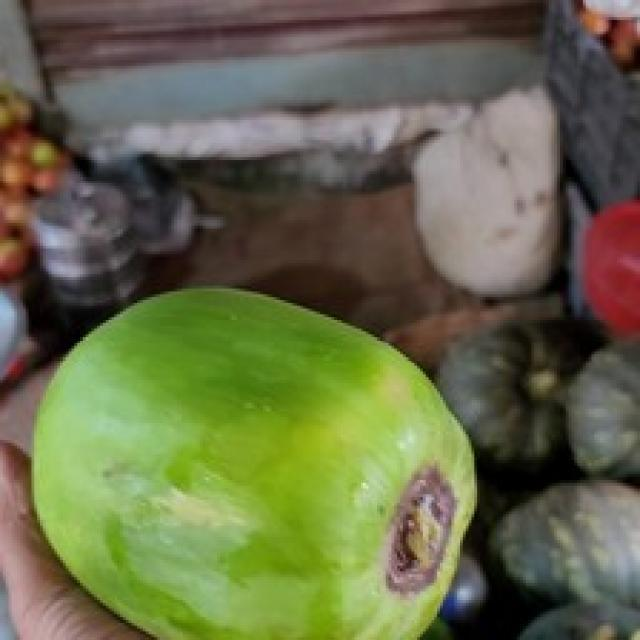Pepaya unrippen: (47, 264, 487, 640)
